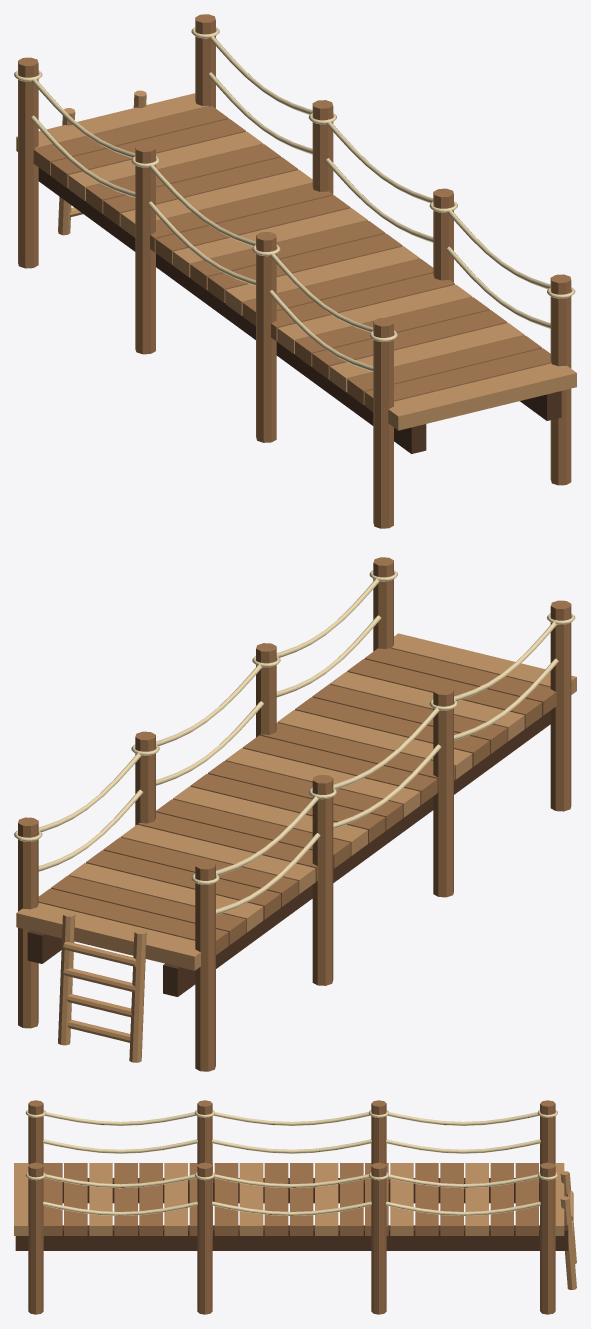
File: pier.glb
The picture shows the model from 3 angles, top to bottom: view 1: azimuth 30°, elevation 25°; view 2: azimuth 150°, elevation 25°; view 3: azimuth 270°, elevation 25°; orthographic projection. The views are drawn at different scales.
Parts seen in each view (by area): view 1: Weathered deck plank, Long deck support, Round pier post, Round pier post.006, Round pier post.004, Round pier post.002, Round pier post.001, Weathered deck plank.020, Weathered deck plank.013, Weathered deck plank.006, Weathered deck plank.002, Weathered deck plank.019 (+32 smaller); view 2: Long deck support, Weathered deck plank.021, Round pier post, Round pier post.004, Round pier post.006, Round pier post.002, Round pier post.007, Weathered deck plank.008, Weathered deck plank.015, Weathered deck plank.001, Weathered deck plank.019, Weathered deck plank.002 (+36 smaller); view 3: Long deck support.001, Round pier post.007, Round pier post.001, Round pier post.003, Round pier post.005, Weathered deck plank.010, Weathered deck plank.008, Weathered deck plank.009, Weathered deck plank.003, Weathered deck plank.013, Weathered deck plank.002, Weathered deck plank.016 (+34 smaller).
Part boxes in pixels (bbox=[...]): Weathered deck plank: bbox=[388, 363, 576, 430]; Long deck support: bbox=[38, 168, 426, 453]; Round pier post: bbox=[373, 317, 393, 528]; Round pier post.006: bbox=[18, 57, 38, 268]; Round pier post.004: bbox=[135, 143, 155, 354]; Round pier post.002: bbox=[256, 232, 276, 442]; Round pier post.001: bbox=[550, 274, 571, 485]; Weathered deck plank.020: bbox=[33, 106, 228, 175]; Weathered deck plank.013: bbox=[155, 195, 350, 264]; Weathered deck plank.006: bbox=[277, 284, 472, 353]; Weathered deck plank.002: bbox=[347, 335, 541, 404]; Weathered deck plank.019: bbox=[51, 119, 245, 188]; Long deck support: bbox=[163, 710, 550, 996]; Weathered deck plank.021: bbox=[16, 903, 200, 970]; Round pier post: bbox=[550, 600, 571, 811]; Round pier post.004: bbox=[312, 775, 333, 985]; Round pier post.006: bbox=[195, 860, 215, 1071]; Round pier post.002: bbox=[433, 686, 453, 897]; Round pier post.007: bbox=[18, 817, 38, 1028]; Weathered deck plank.008: bbox=[242, 735, 437, 804]; Weathered deck plank.015: bbox=[120, 824, 315, 894]; Weathered deck plank.001: bbox=[364, 648, 556, 715]; Weathered deck plank.019: bbox=[51, 875, 245, 945]; Weathered deck plank.002: bbox=[347, 659, 541, 728]; Long deck support.001: bbox=[15, 1225, 568, 1250]; Round pier post.007: bbox=[540, 1162, 555, 1314]; Round pier post.001: bbox=[28, 1162, 43, 1314]; Round pier post.003: bbox=[197, 1162, 212, 1314]; Round pier post.005: bbox=[371, 1162, 386, 1314]; Weathered deck plank.010: bbox=[264, 1163, 288, 1235]; Weathered deck plank.008: bbox=[214, 1163, 238, 1235]; Weathered deck plank.009: bbox=[239, 1163, 263, 1235]; Weathered deck plank.003: bbox=[89, 1163, 112, 1235]; Weathered deck plank.013: bbox=[340, 1163, 363, 1235]; Weathered deck plank.002: bbox=[64, 1163, 87, 1235]; Weathered deck plank.016: bbox=[415, 1163, 438, 1235].
Bounding box in the file's own units: 1.64 × 1.57 × 5.5.
